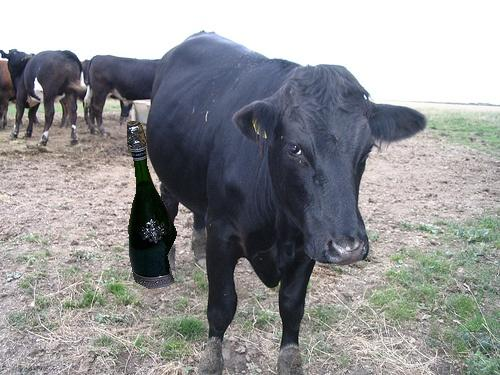tampered: (128, 122, 177, 289)
